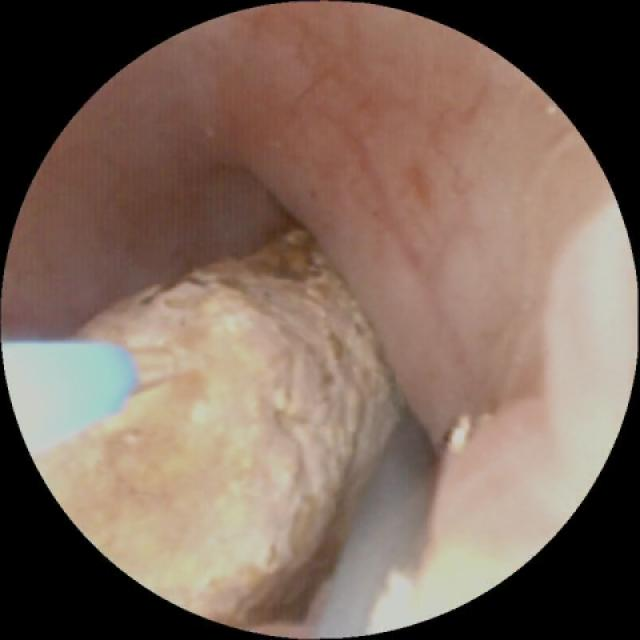fiber: (7, 345, 134, 451)
stone: (40, 231, 403, 622)
tissue: (14, 17, 621, 629)
